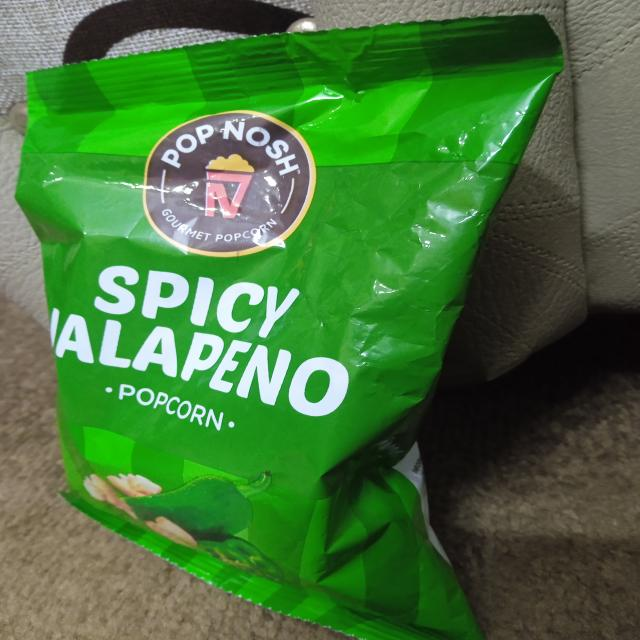Plastic: (19, 28, 568, 640)
